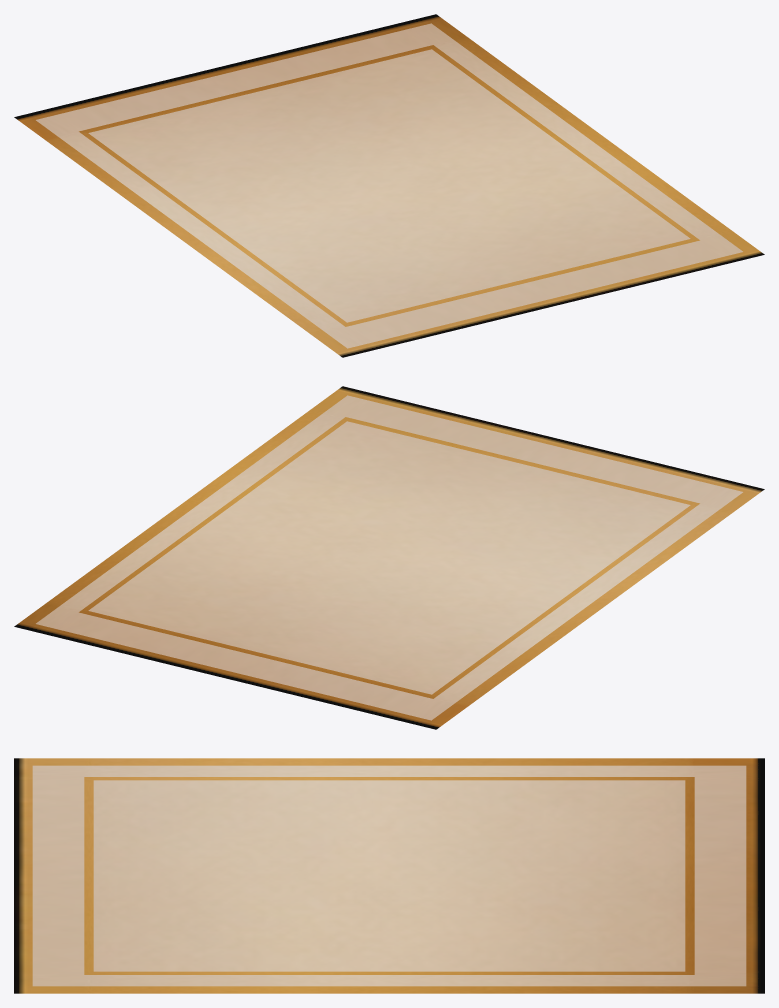
File: SM_flated_pillar_rug_02.fbx
3 renders of one model, top to bottom at view 1: azimuth 30°, elevation 25°; view 2: azimuth 150°, elevation 25°; view 3: azimuth 270°, elevation 25°, orthographic. The views are drawn at different scales.
Visible parts, largest first — view 1: SM_flated_pillar_rug_02; view 2: SM_flated_pillar_rug_02; view 3: SM_flated_pillar_rug_02.
Boxes of the visible parts, x1,y1,x2,y2 form: SM_flated_pillar_rug_02: (14, 14, 764, 357); SM_flated_pillar_rug_02: (14, 386, 764, 729); SM_flated_pillar_rug_02: (14, 758, 764, 993).
Bounding box in the file's own units: 2.96 × 0 × 3.99.
